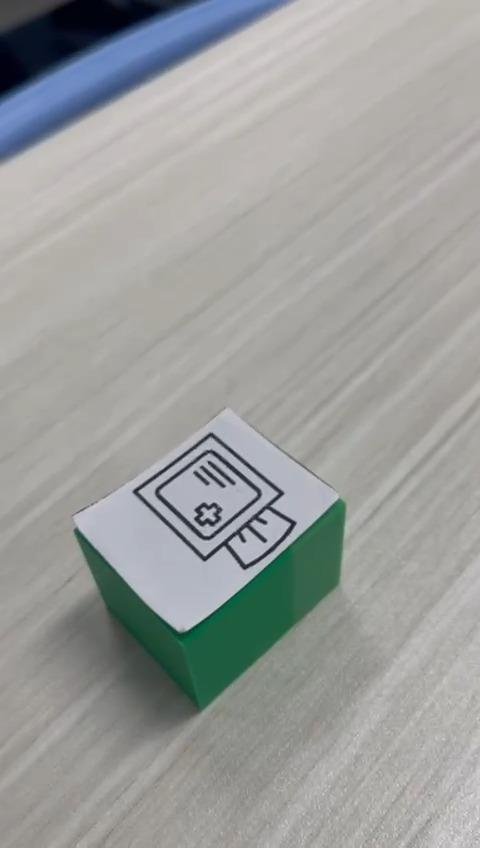Gauze: (70, 405, 347, 711)
